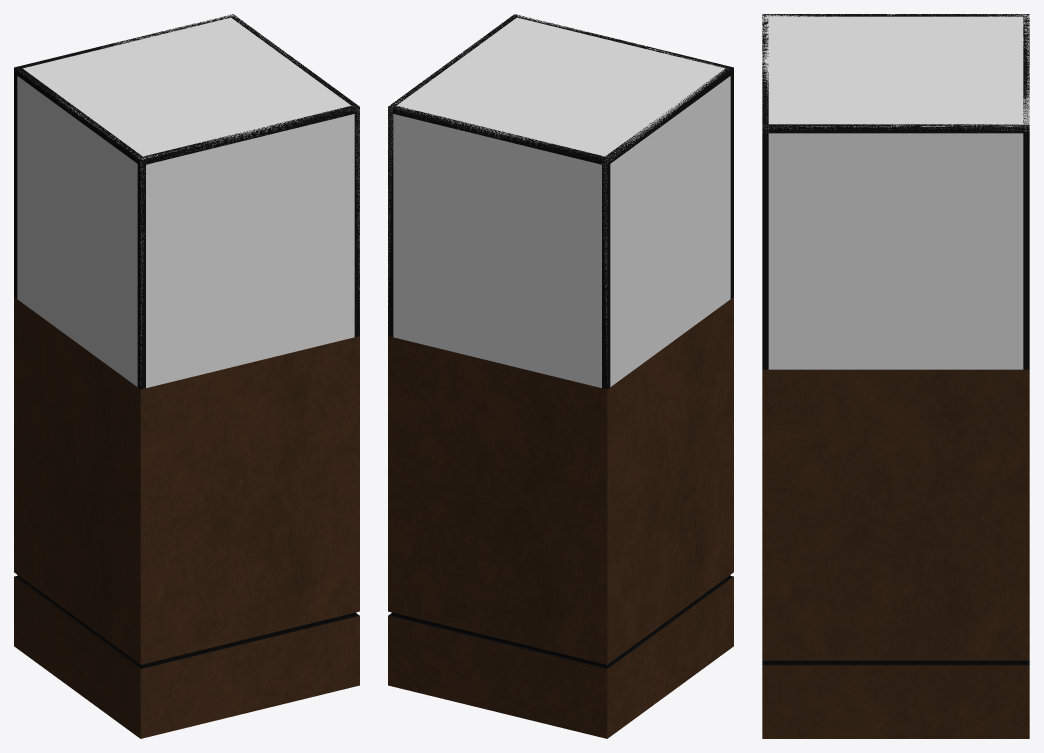
File: glass_case1.fbx
3 renders of one model, left to right at view 1: azimuth 30°, elevation 25°; view 2: azimuth 150°, elevation 25°; view 3: azimuth 270°, elevation 25°, orthographic. The views are drawn at different scales.
Parts seen in each view (by area): view 1: base, glass; view 2: base, glass; view 3: base, glass.
Boxes of the visible parts, x1,y1,x2,y2 form: base: (14,297,359,738); glass: (14,14,359,389); base: (388,297,733,738); glass: (388,14,733,389); base: (762,369,1029,738); glass: (762,14,1029,369).
Size of the model in its own units: 200 by 505 by 200.
Materials: 4 (1 with a texture image).
